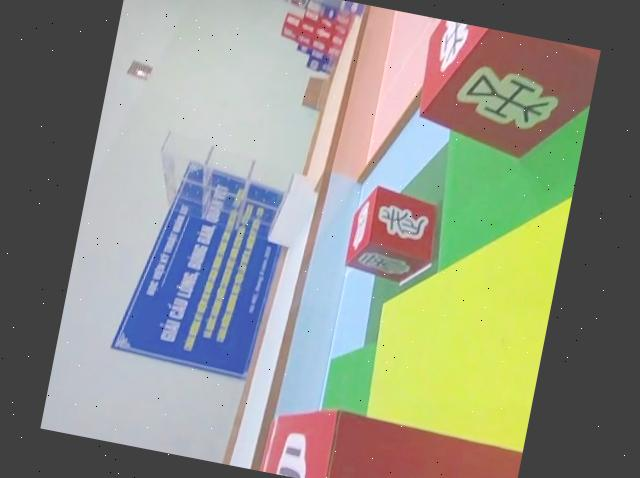R2 Fake: (255, 392, 524, 478), (341, 181, 446, 289)
R2 Real: (408, 17, 600, 170)
